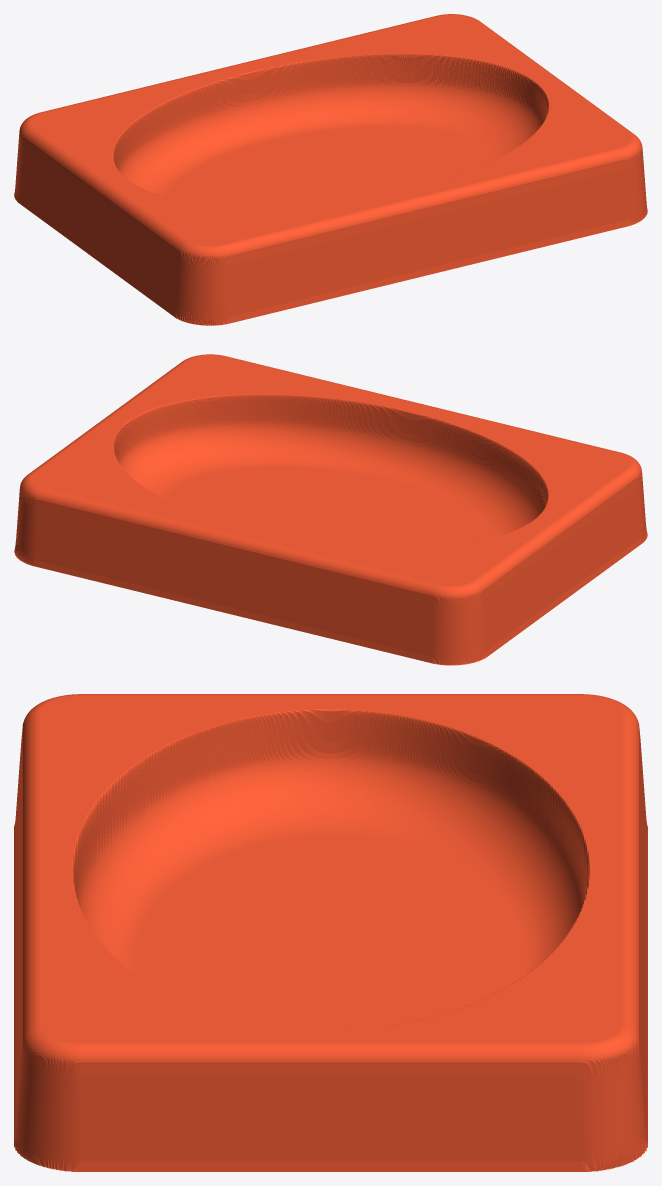
The model's file is mold.glb.
3 renders of one model, top to bottom at view 1: azimuth 30°, elevation 25°; view 2: azimuth 150°, elevation 25°; view 3: azimuth 270°, elevation 25°, orthographic. The views are drawn at different scales.
Parts seen in each view (by area): view 1: geometry_0; view 2: geometry_0; view 3: geometry_0.
Part boxes in pixels (<box>): geometry_0: <box>14,14,647,325</box>; geometry_0: <box>14,354,647,665</box>; geometry_0: <box>14,694,647,1171</box>.
Bounding box in the file's own units: 0.1178 × 0.0175 × 0.0854.
